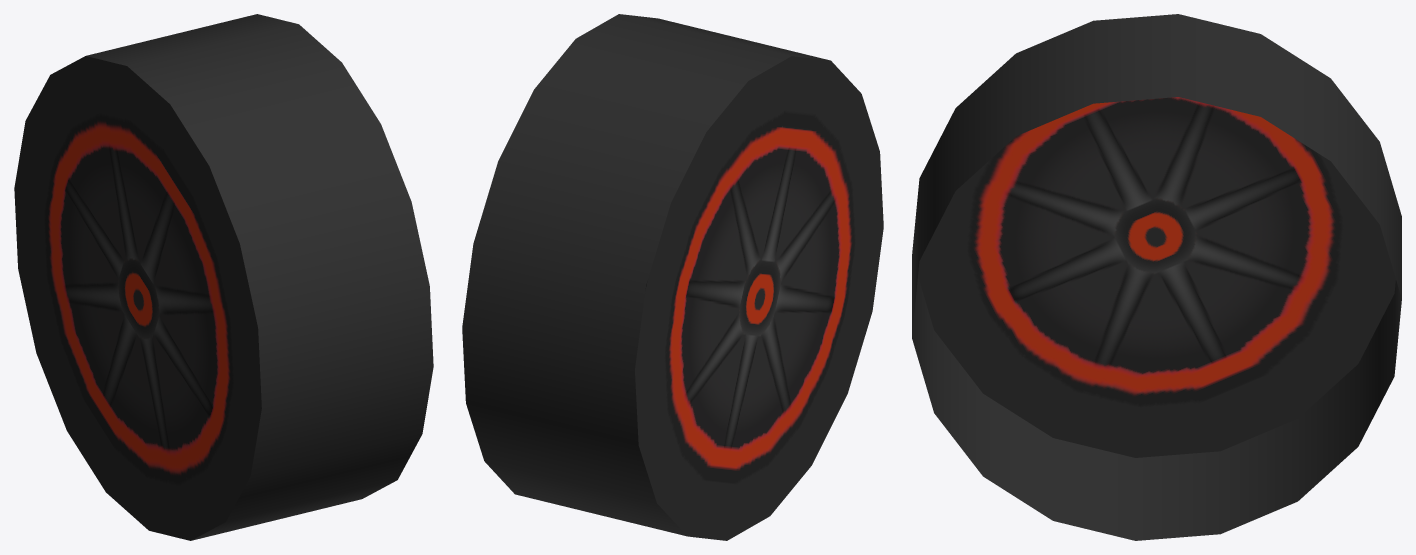
The model's file is wheel 4.FBX.
3 views of the same model, side by side, from view 1: azimuth 30°, elevation 25°; view 2: azimuth 150°, elevation 25°; view 3: azimuth 270°, elevation 25° (orthographic).
Parts seen in each view (by area): view 1: Cylinder005; view 2: Cylinder005; view 3: Cylinder005.
Boxes of the visible parts, box(x1,y1,x2,y2) form: Cylinder005: box(14, 14, 433, 540); Cylinder005: box(462, 14, 883, 540); Cylinder005: box(912, 14, 1401, 540).
Bounding box in the file's own units: 215 × 537 × 537.
Materials: 1 (1 with a texture image).
